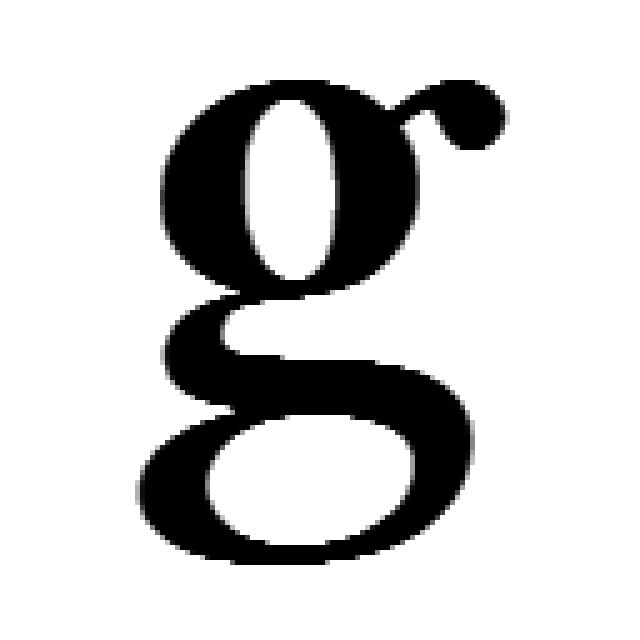G: (150, 77, 512, 563)
